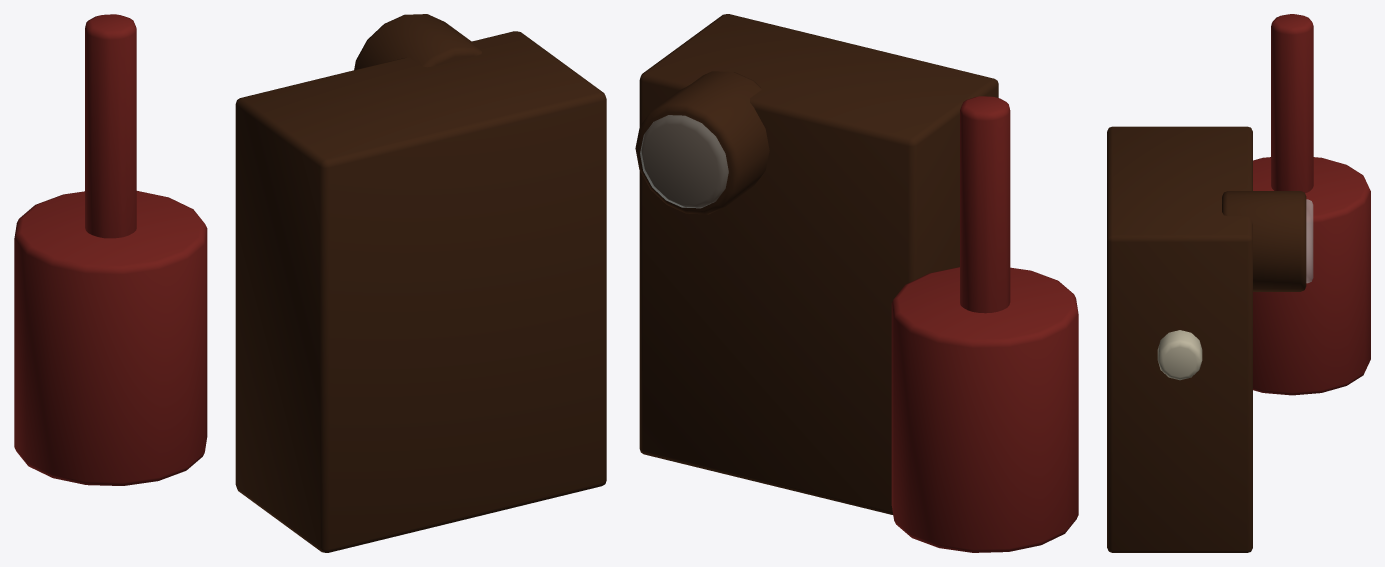
Rendered from SM_SHI11_Interferometer.glb.
3 renders of one model, left to right at view 1: azimuth 30°, elevation 25°; view 2: azimuth 150°, elevation 25°; view 3: azimuth 270°, elevation 25°, orthographic. The views are drawn at different scales.
Parts seen in each view (by area): view 1: SM_SHI11_Interferometer, Bulb_Rubber_Pump; view 2: SM_SHI11_Interferometer, Bulb_Rubber_Pump, Eyepiece_Lens_Quad; view 3: SM_SHI11_Interferometer, Bulb_Rubber_Pump, Btn_Light_Cap, Eyepiece_Lens_Quad.
Part boxes in pixels (x1,y1,x2,y2): SM_SHI11_Interferometer: (235, 14, 606, 552); Bulb_Rubber_Pump: (14, 14, 207, 485); SM_SHI11_Interferometer: (635, 14, 998, 514); Bulb_Rubber_Pump: (891, 96, 1078, 552); Eyepiece_Lens_Quad: (640, 115, 728, 208); SM_SHI11_Interferometer: (1107, 126, 1306, 552); Bulb_Rubber_Pump: (1253, 14, 1370, 395); Btn_Light_Cap: (1157, 330, 1202, 380); Eyepiece_Lens_Quad: (1306, 199, 1313, 283).
Bounding box in the file's own units: 0.1655 × 0.1505 × 0.094.
